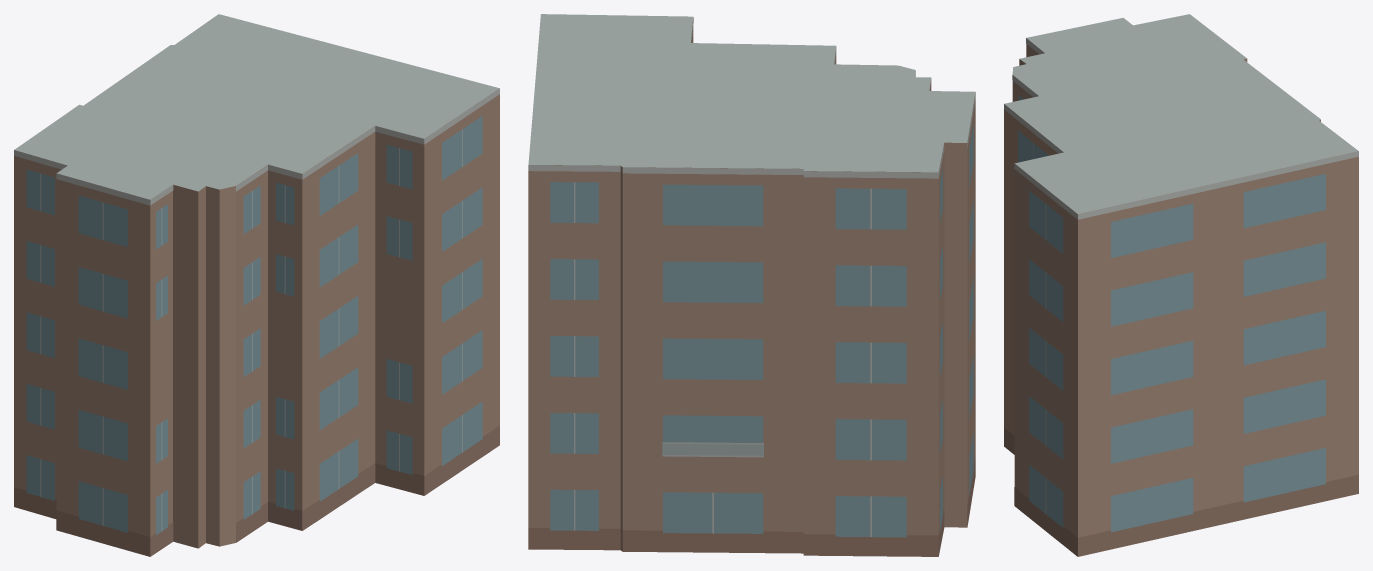
The model's file is survey-upis-32506112.glb.
The picture shows the model from 3 angles, left to right: view 1: azimuth 30°, elevation 25°; view 2: azimuth 150°, elevation 25°; view 3: azimuth 270°, elevation 25°; orthographic projection. The views are drawn at different scales.
Visible parts, largest first — view 1: survey-upis-32506112.tmp; view 2: survey-upis-32506112.tmp; view 3: survey-upis-32506112.tmp.
Part boxes in pixels (x1=…): survey-upis-32506112.tmp: x1=14, y1=14, x2=499, y2=556; survey-upis-32506112.tmp: x1=528, y1=14, x2=975, y2=556; survey-upis-32506112.tmp: x1=1004, y1=14, x2=1358, y2=556.
Bounding box in the file's own units: 18.74 × 14.95 × 14.03.
